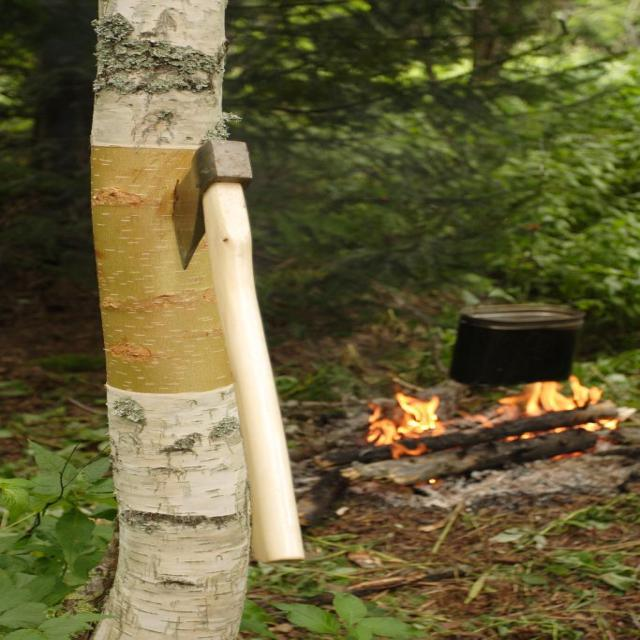Axe: (174, 141, 304, 561)
